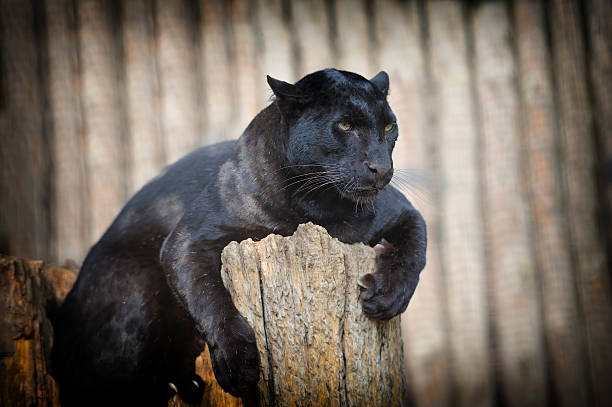panther: (251, 66, 406, 227)
